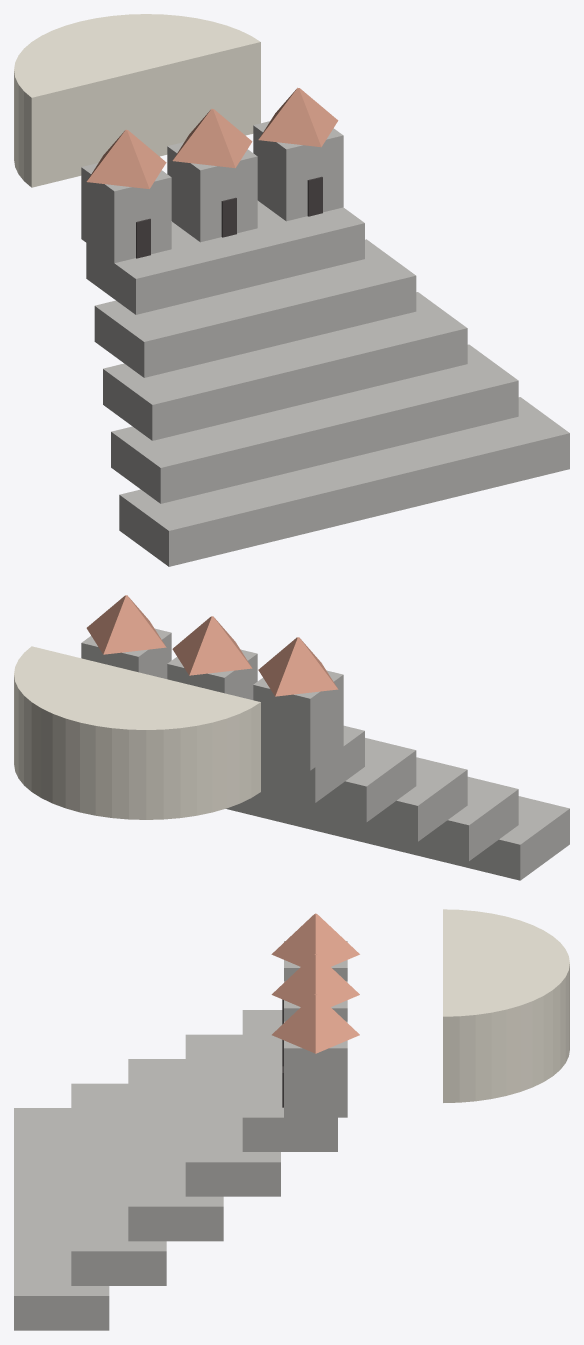
File: andean.glb
3 renders of one model, top to bottom at view 1: azimuth 30°, elevation 25°; view 2: azimuth 150°, elevation 25°; view 3: azimuth 270°, elevation 25°, orthographic. The views are drawn at different scales.
Parts seen in each view (by area): view 1: andean; view 2: andean; view 3: andean.
Part boxes in pixels (<box>): andean: <box>14,14,569,566</box>; andean: <box>14,595,569,880</box>; andean: <box>14,909,569,1330</box>.
Size of the model in its own units: 14.29 by 10 by 17.86.
